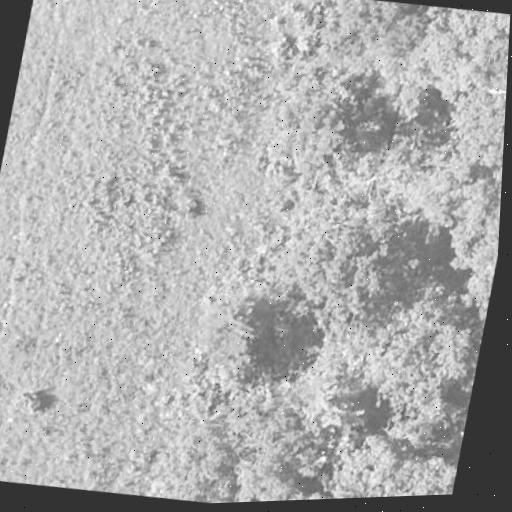tree-top: (330, 278, 484, 438), (289, 198, 436, 331), (329, 427, 462, 499), (278, 95, 371, 192), (158, 415, 250, 505), (414, 3, 511, 88), (319, 0, 421, 74), (221, 426, 317, 503), (190, 291, 273, 379), (434, 162, 503, 252), (449, 91, 506, 168)
